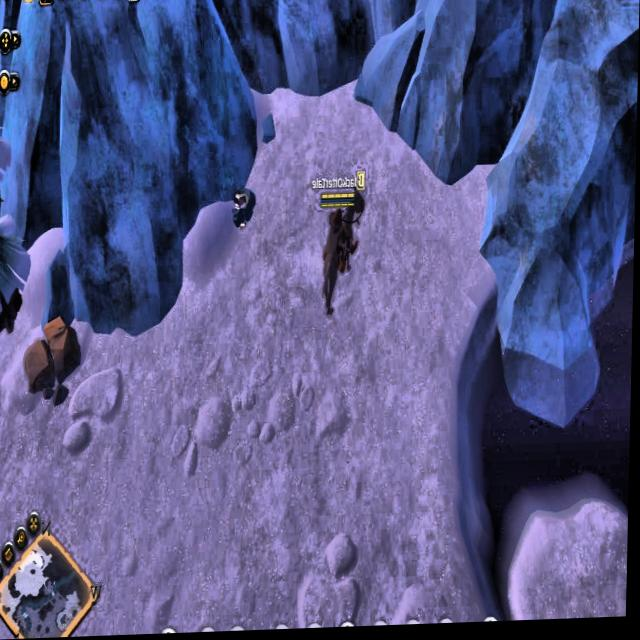limestone: (23, 312, 86, 396)
